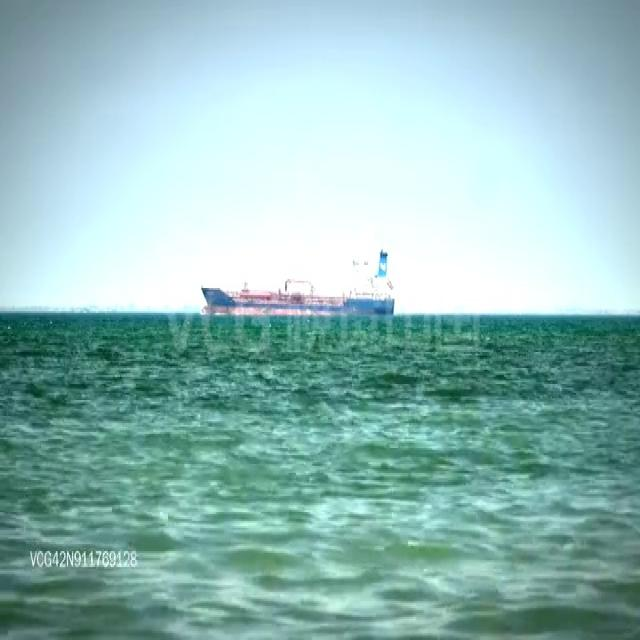cargoship: (197, 231, 393, 321)
